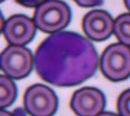M: (35, 31, 97, 87)
